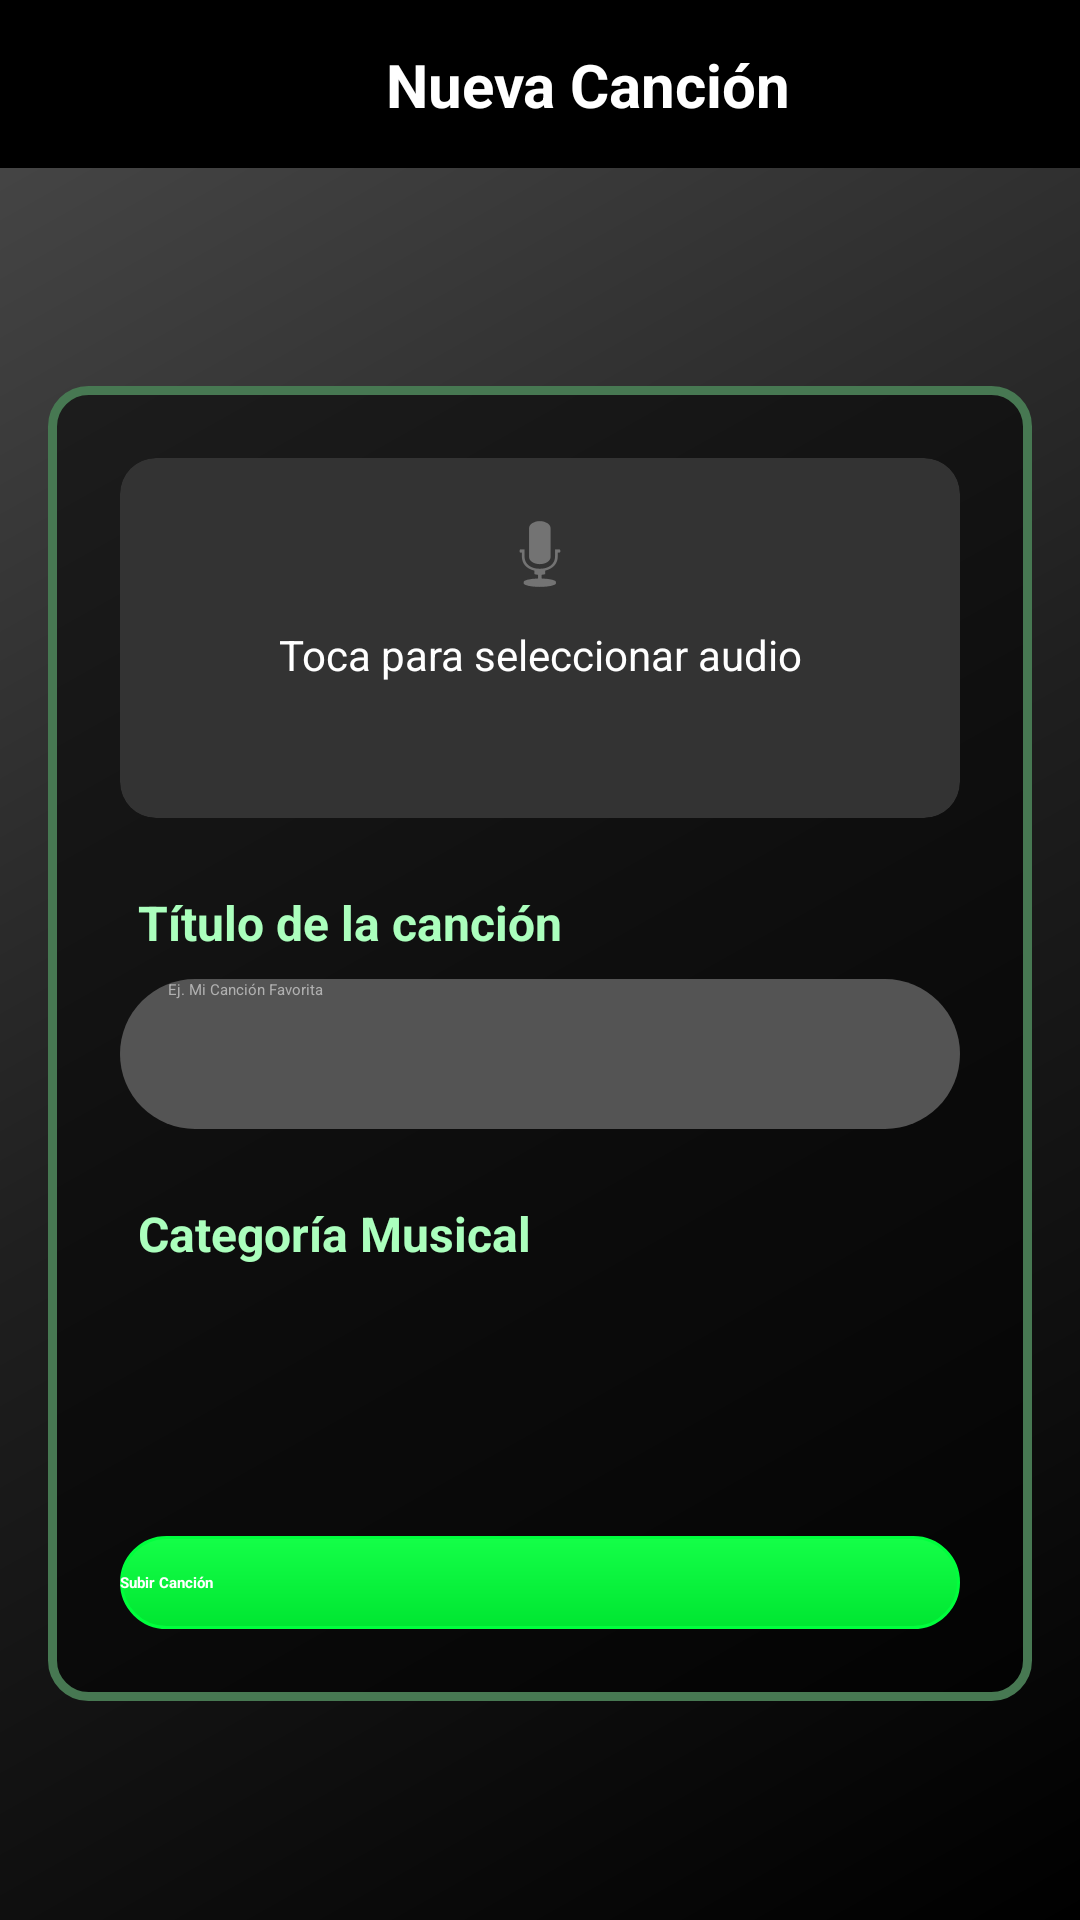

Icon bounding boxes for this 1080 × 1920 phone screenshot, format (x1, y1, x2, y2):
speak now: (520, 521, 560, 587)
